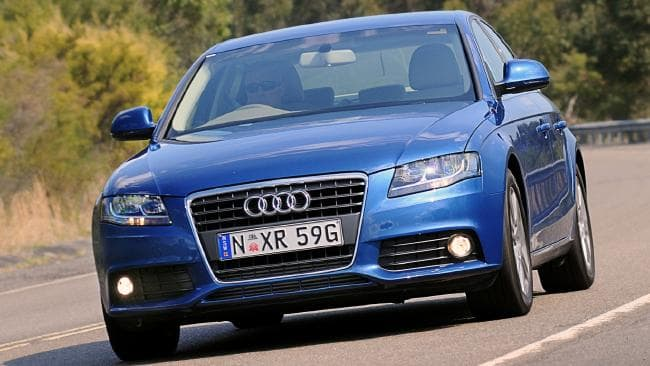audi: (238, 189, 320, 219)
